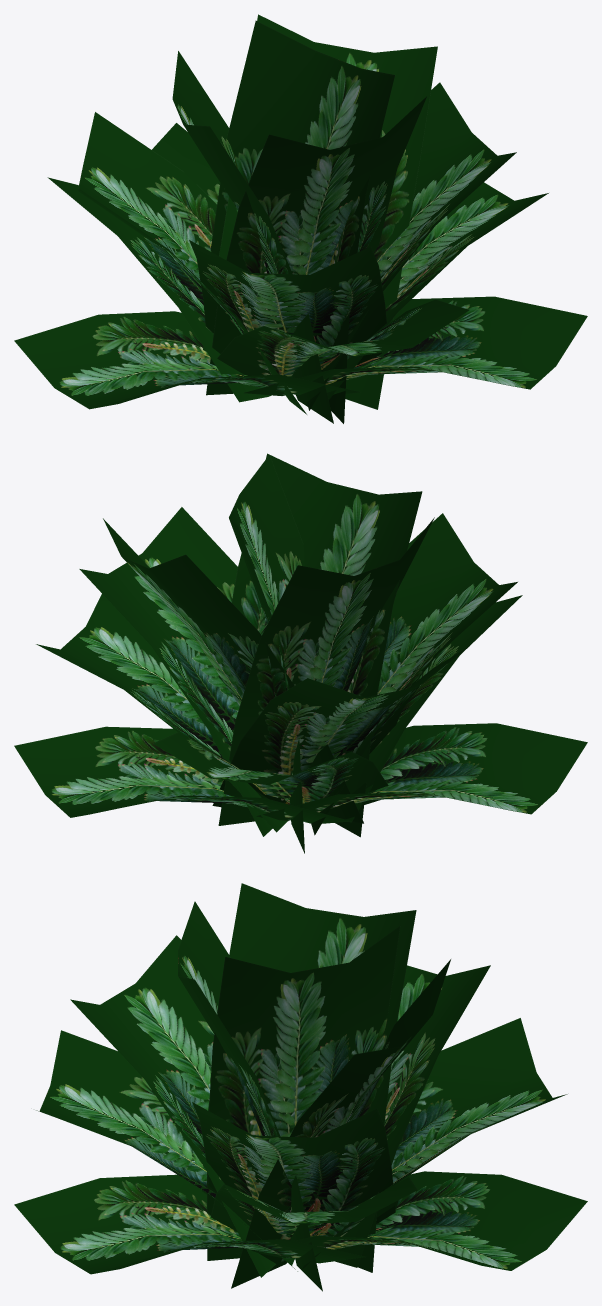
The model's file is gs_bush01.glb.
The picture shows the model from 3 angles, top to bottom: view 1: azimuth 30°, elevation 25°; view 2: azimuth 150°, elevation 25°; view 3: azimuth 270°, elevation 25°; orthographic projection. The views are drawn at different scales.
Visible parts, largest first — view 1: Plane01; view 2: Plane01; view 3: Plane01.
Boxes of the visible parts, left/top/right/bottom form: Plane01: left=14, top=14, right=587, bottom=423; Plane01: left=14, top=453, right=587, bottom=853; Plane01: left=14, top=883, right=587, bottom=1291.
Bounding box in the file's own units: 140 × 96.09 × 145.
Materials: 1 (1 with a texture image).
